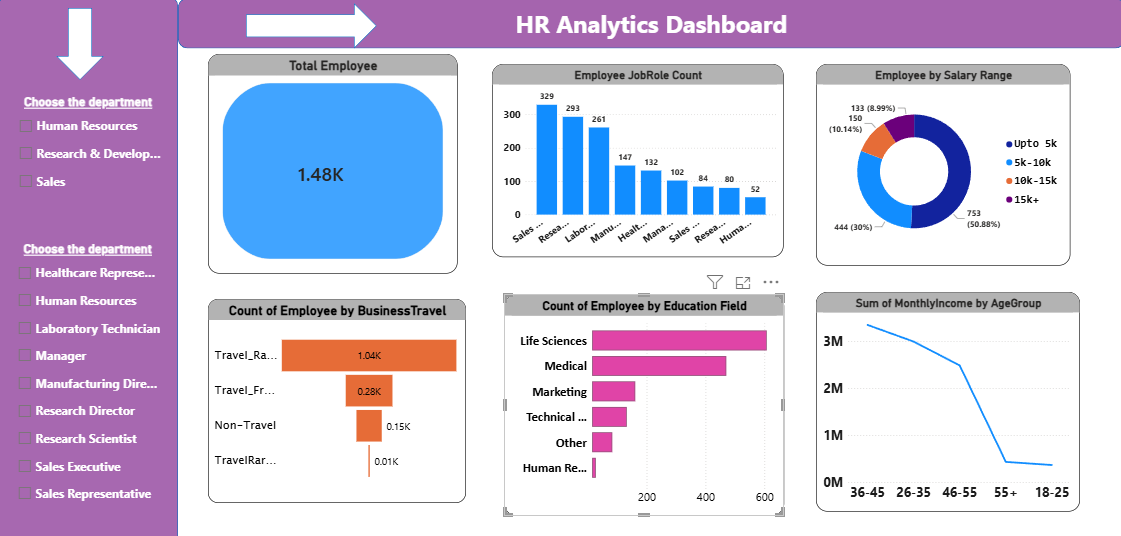

Layout of this report page (visuals, bound fields, positions):
{"tool":"powerbi","page":{"name":"Page 1","canvas":[1877,922],"ordinal":0},"visuals":[{"type":"shape","box":[300,0,1578,84],"z":0},{"type":"shape","box":[0,0,300,922],"z":1000},{"type":"columnChart","title":"Employee JobRole Count","fields":{"Y":["CountNonNull(HR_Analytics csv.EmpID)"],"Category":["HR_Analytics csv.JobRole"]},"box":[824,110,486,322],"z":2000},{"type":"donutChart","title":"Employee by Salary Range","fields":{"Y":["CountNonNull(HR_Analytics csv.EmpID)"],"Category":["HR_Analytics csv.SalarySlab"]},"box":[1364,110,424,336],"z":3000},{"type":"funnel","title":"Count of Employee by BusinessTravel","fields":{"Category":["HR_Analytics csv.BusinessTravel"],"Y":["CountNonNull(HR_Analytics csv.EmpID)"]},"box":[350,502,430,340],"z":4000},{"type":"clusteredBarChart","title":"Count of EmpIoyee by Education  Field","fields":{"Category":["HR_Analytics csv.EducationField"],"Y":["CountNonNull(HR_Analytics csv.EmpID)"]},"box":[843.3,493.3,466.7,370],"z":5000},{"type":"slicer","title":"Choose the department","fields":{"Values":["HR_Analytics csv.Department"]},"box":[24,162,254,214],"z":6000},{"type":"slicer","title":"Choose the JobRole","fields":{"Values":["HR_Analytics csv.JobRole"]},"box":[22,406,256,452],"z":7000},{"type":"shape","box":[96,16,80,120],"z":8000},{"type":"shape","box":[414,8,218,76],"z":9000},{"type":"cardVisual","title":"Total   Employee","fields":{"Data":["CountNonNull(HR_Analytics csv.EmpID)"]},"box":[350,94,416,366],"z":10000},{"type":"lineChart","title":"Sum of MonthlyIncome by AgeGroup","fields":{"Y":["Sum(HR_Analytics csv.MonthlyIncome)"],"Category":["HR_Analytics csv.AgeGroup"]},"box":[1364,490,440,366],"z":11000}]}

Visuals, with their boxes in screenshot pixels (x1, y1, x2, y2), scaled from the page's 1877x922 canvas onto the 1121x536 screenshot:
shape: (179,0,1120,49)
shape: (0,0,179,535)
"Employee JobRole Count" columnChart: (492,64,782,251)
"Employee by Salary Range" donutChart: (815,64,1068,259)
"Count of Employee by BusinessTravel" funnel: (209,292,466,489)
"Count of EmpIoyee by Education  Field" clusteredBarChart: (504,287,782,502)
"Choose the department" slicer: (14,94,166,219)
"Choose the JobRole" slicer: (13,236,166,499)
shape: (57,9,105,79)
shape: (247,5,377,49)
"Total   Employee" cardVisual: (209,55,457,267)
"Sum of MonthlyIncome by AgeGroup" lineChart: (815,285,1077,498)
